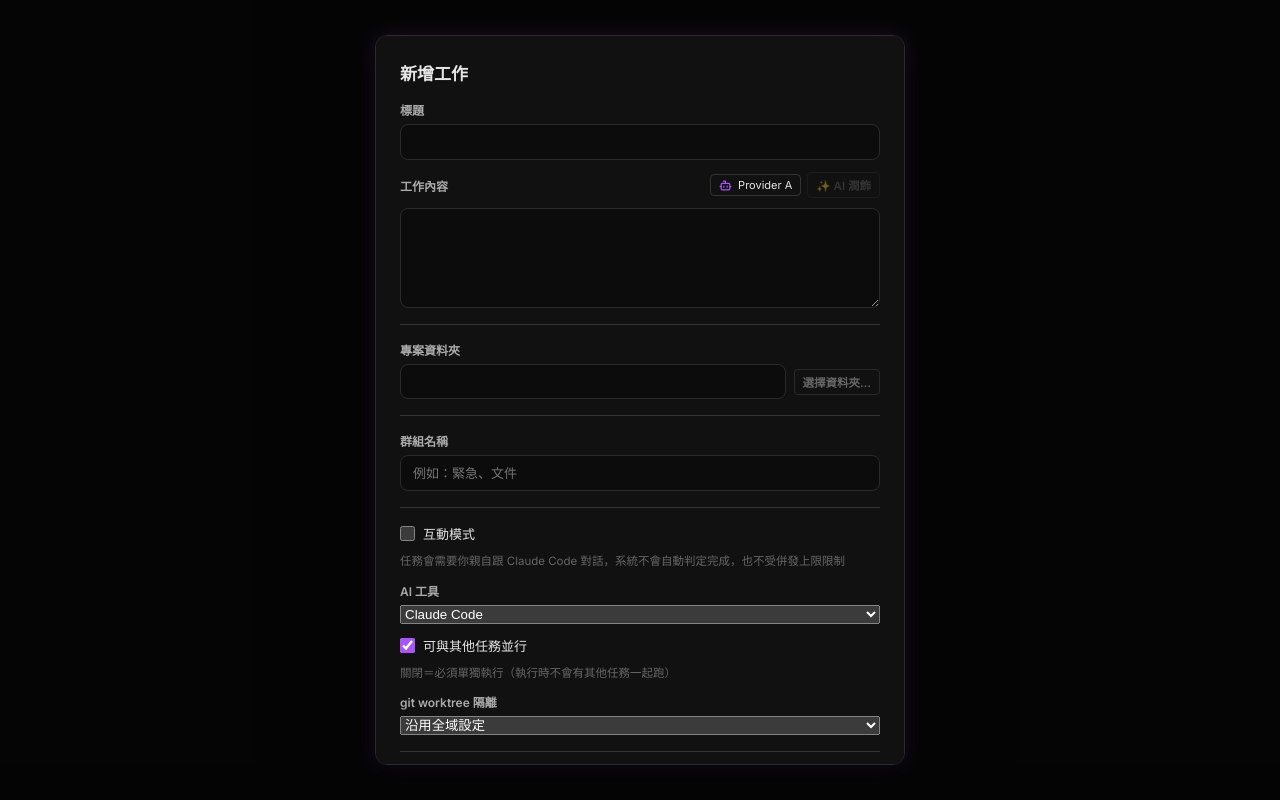
Test: TaskEditorDialog 的 AI 潤飾 › AI 失敗時顯示錯誤且不動輸入框
Type "原本的草稿" into the text box with test id "task-body-input" at (640, 258), box 400,208 -> 880,308
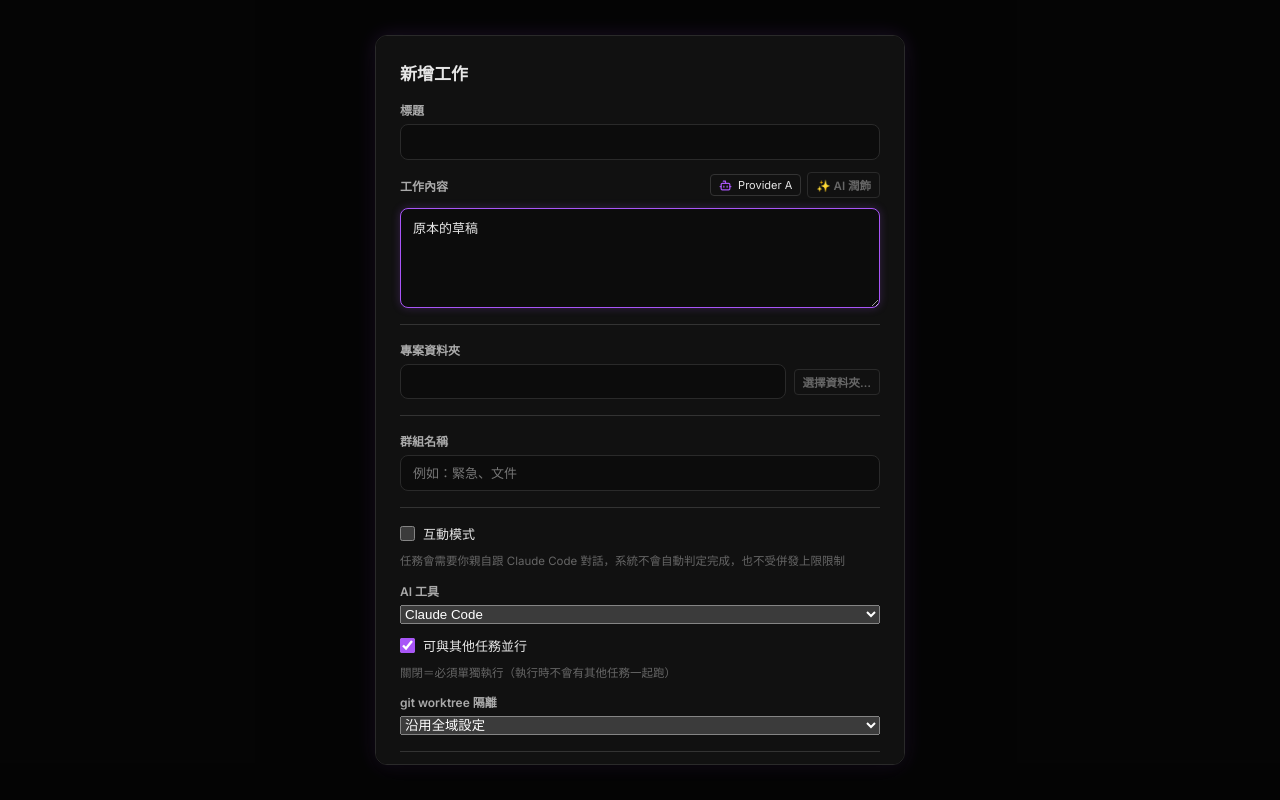
Click the button with test id "task-refine" at (844, 185), box 807,172 -> 880,198
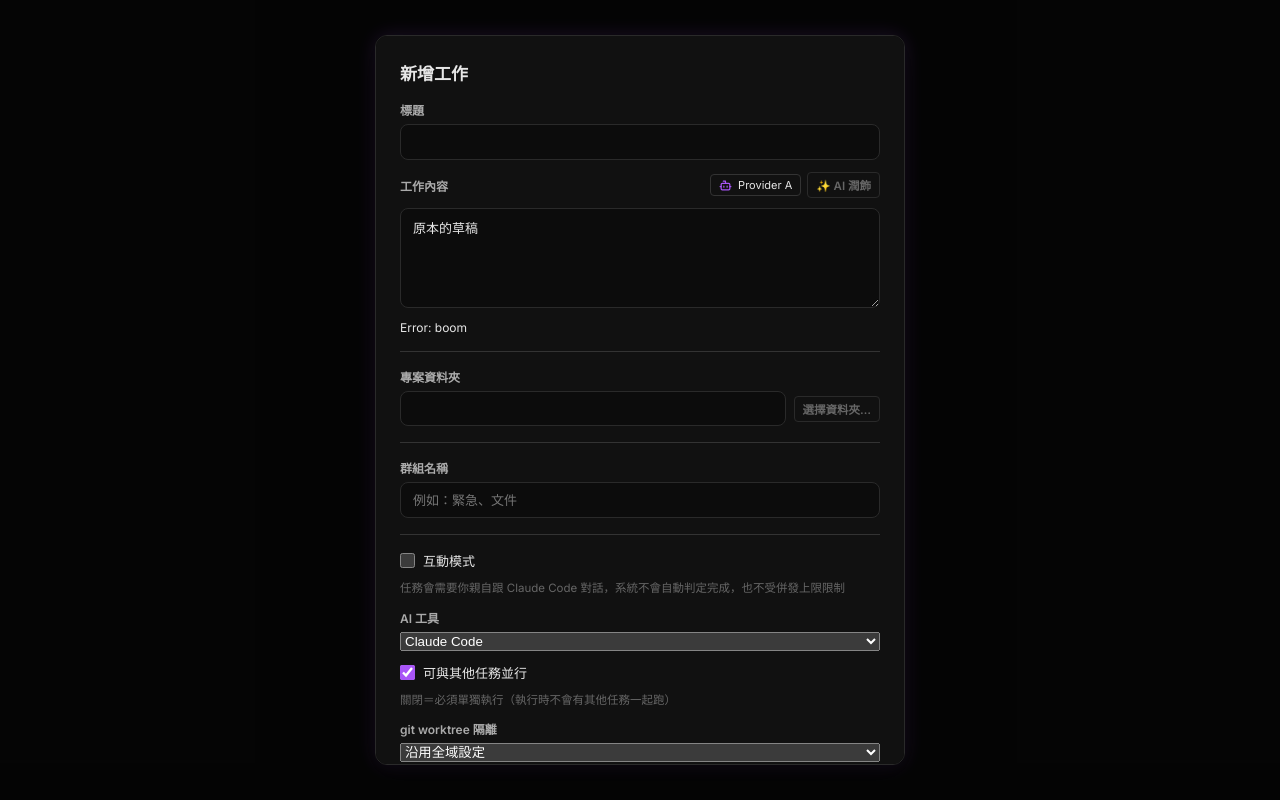
Expected: the text "Error: boom" is shown, 400,320 -> 467,335
